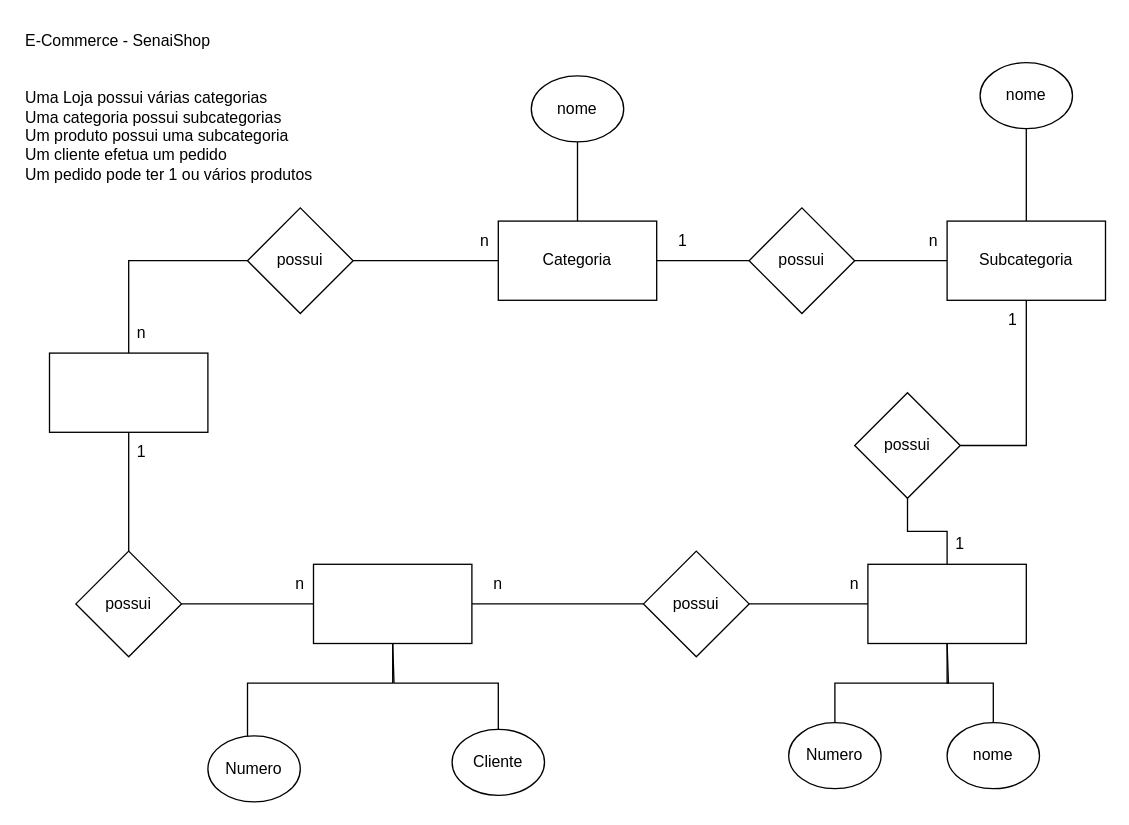
The diagram is 1129 pixels wide and 825 high, and some of its shapes have lost their labels. The shapes that lost their labels are listed below. From the top down, each one's centre as x and y in pixels, then its label:
At point 128,392: "Loja".
At point 392,603: "Pedido".
At point 946,603: "Produto".
